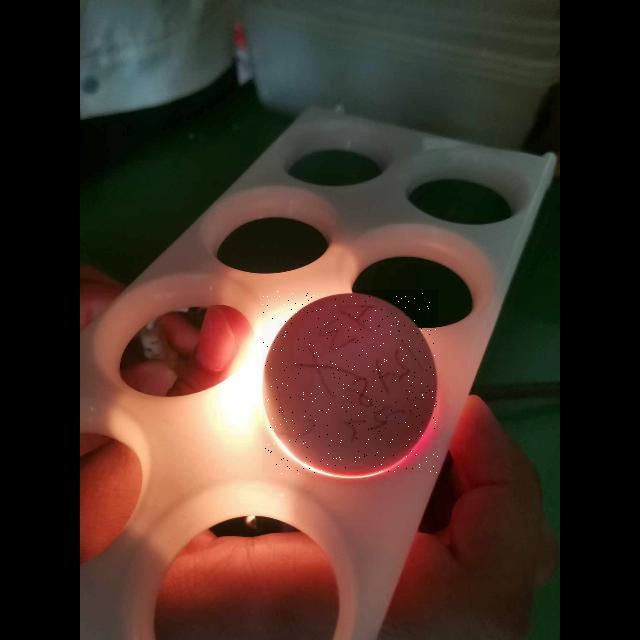Fertile: (262, 290, 438, 474)
